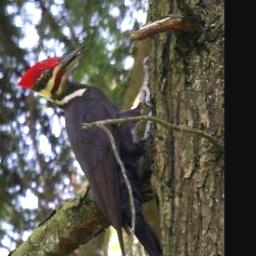Woodpecker: (16, 44, 169, 256)
